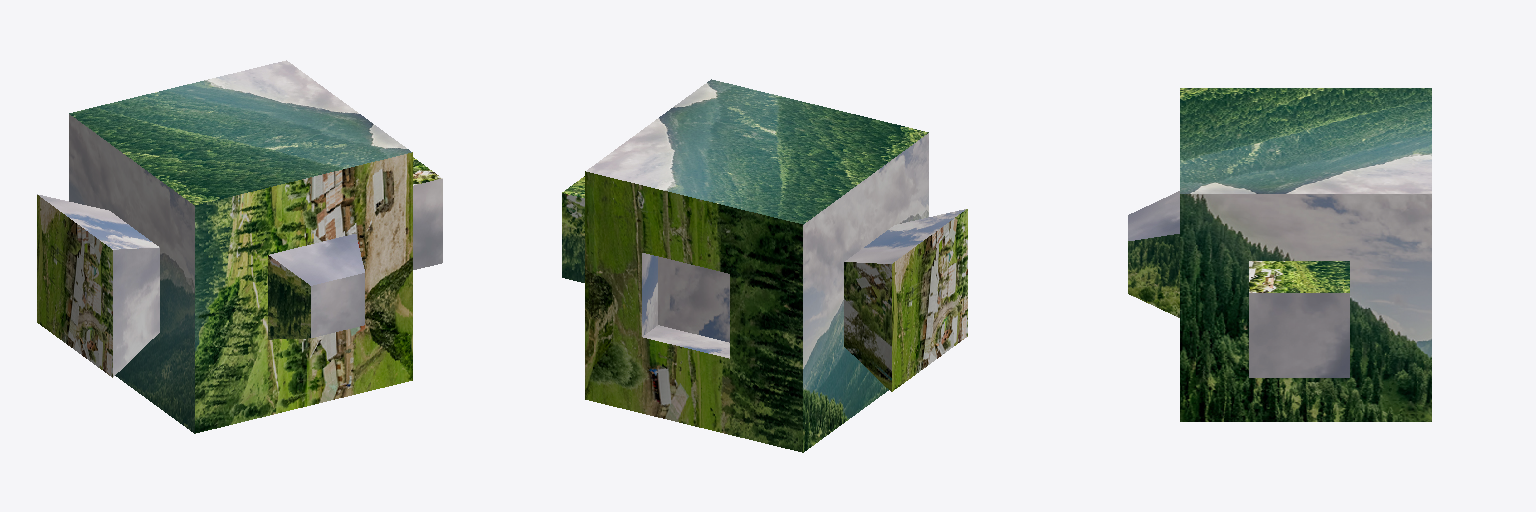
3 renders of one model, left to right at view 1: azimuth 30°, elevation 25°; view 2: azimuth 150°, elevation 25°; view 3: azimuth 270°, elevation 25°, orthographic.
Visible parts, largest first — view 1: Cube; view 2: Cube; view 3: Cube.
Boxes of the visible parts, x1,y1,x2,y2 form: Cube: [37, 60, 442, 433]; Cube: [562, 79, 967, 452]; Cube: [1128, 88, 1431, 421].
Bounding box in the file's own units: 3.14 × 2 × 2.41.
Materials: 1 (1 with a texture image).